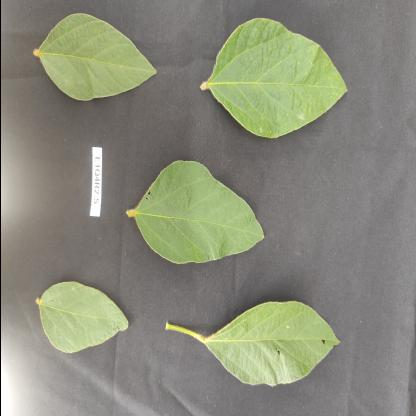label: (69, 140, 105, 228)
leaflets: (206, 3, 360, 153), (193, 270, 358, 400), (124, 157, 272, 271), (22, 0, 161, 115), (34, 276, 138, 366)
